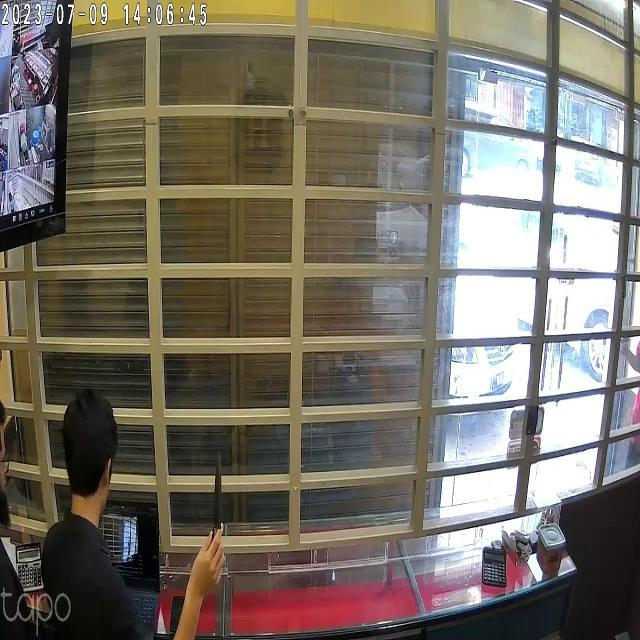Knife: (198, 433, 245, 528)
